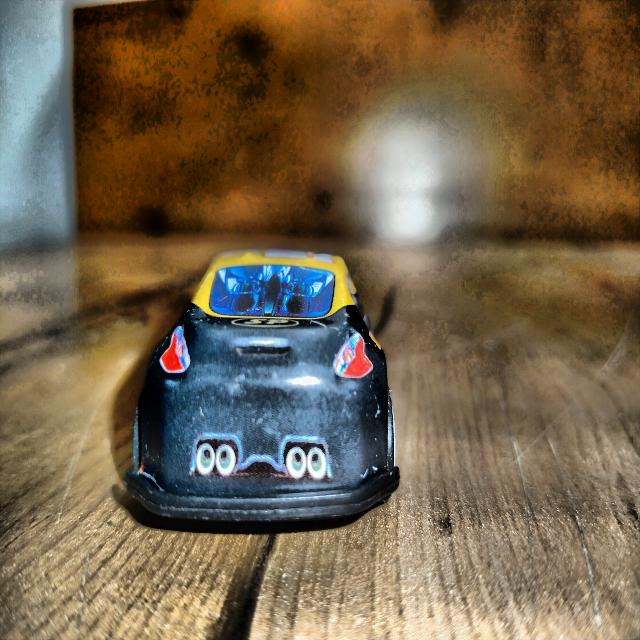Car: (126, 250, 399, 522)
